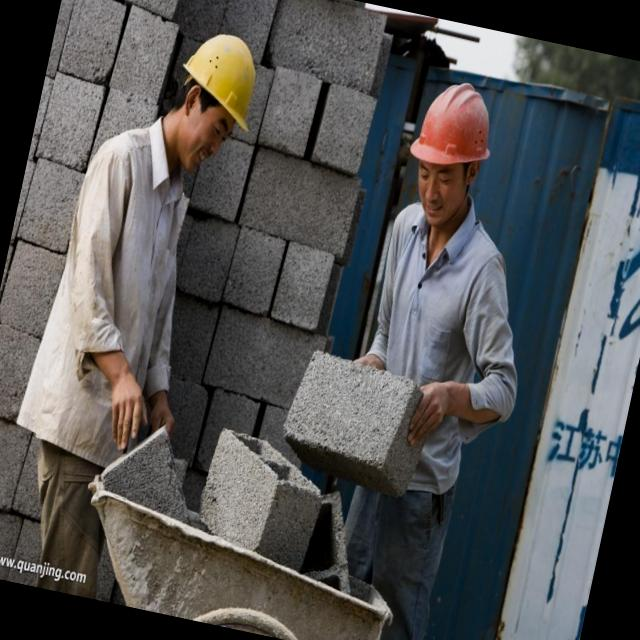helmet: (146, 7, 275, 154), (397, 61, 519, 188)
no-vest: (4, 118, 226, 476), (345, 186, 554, 410)
